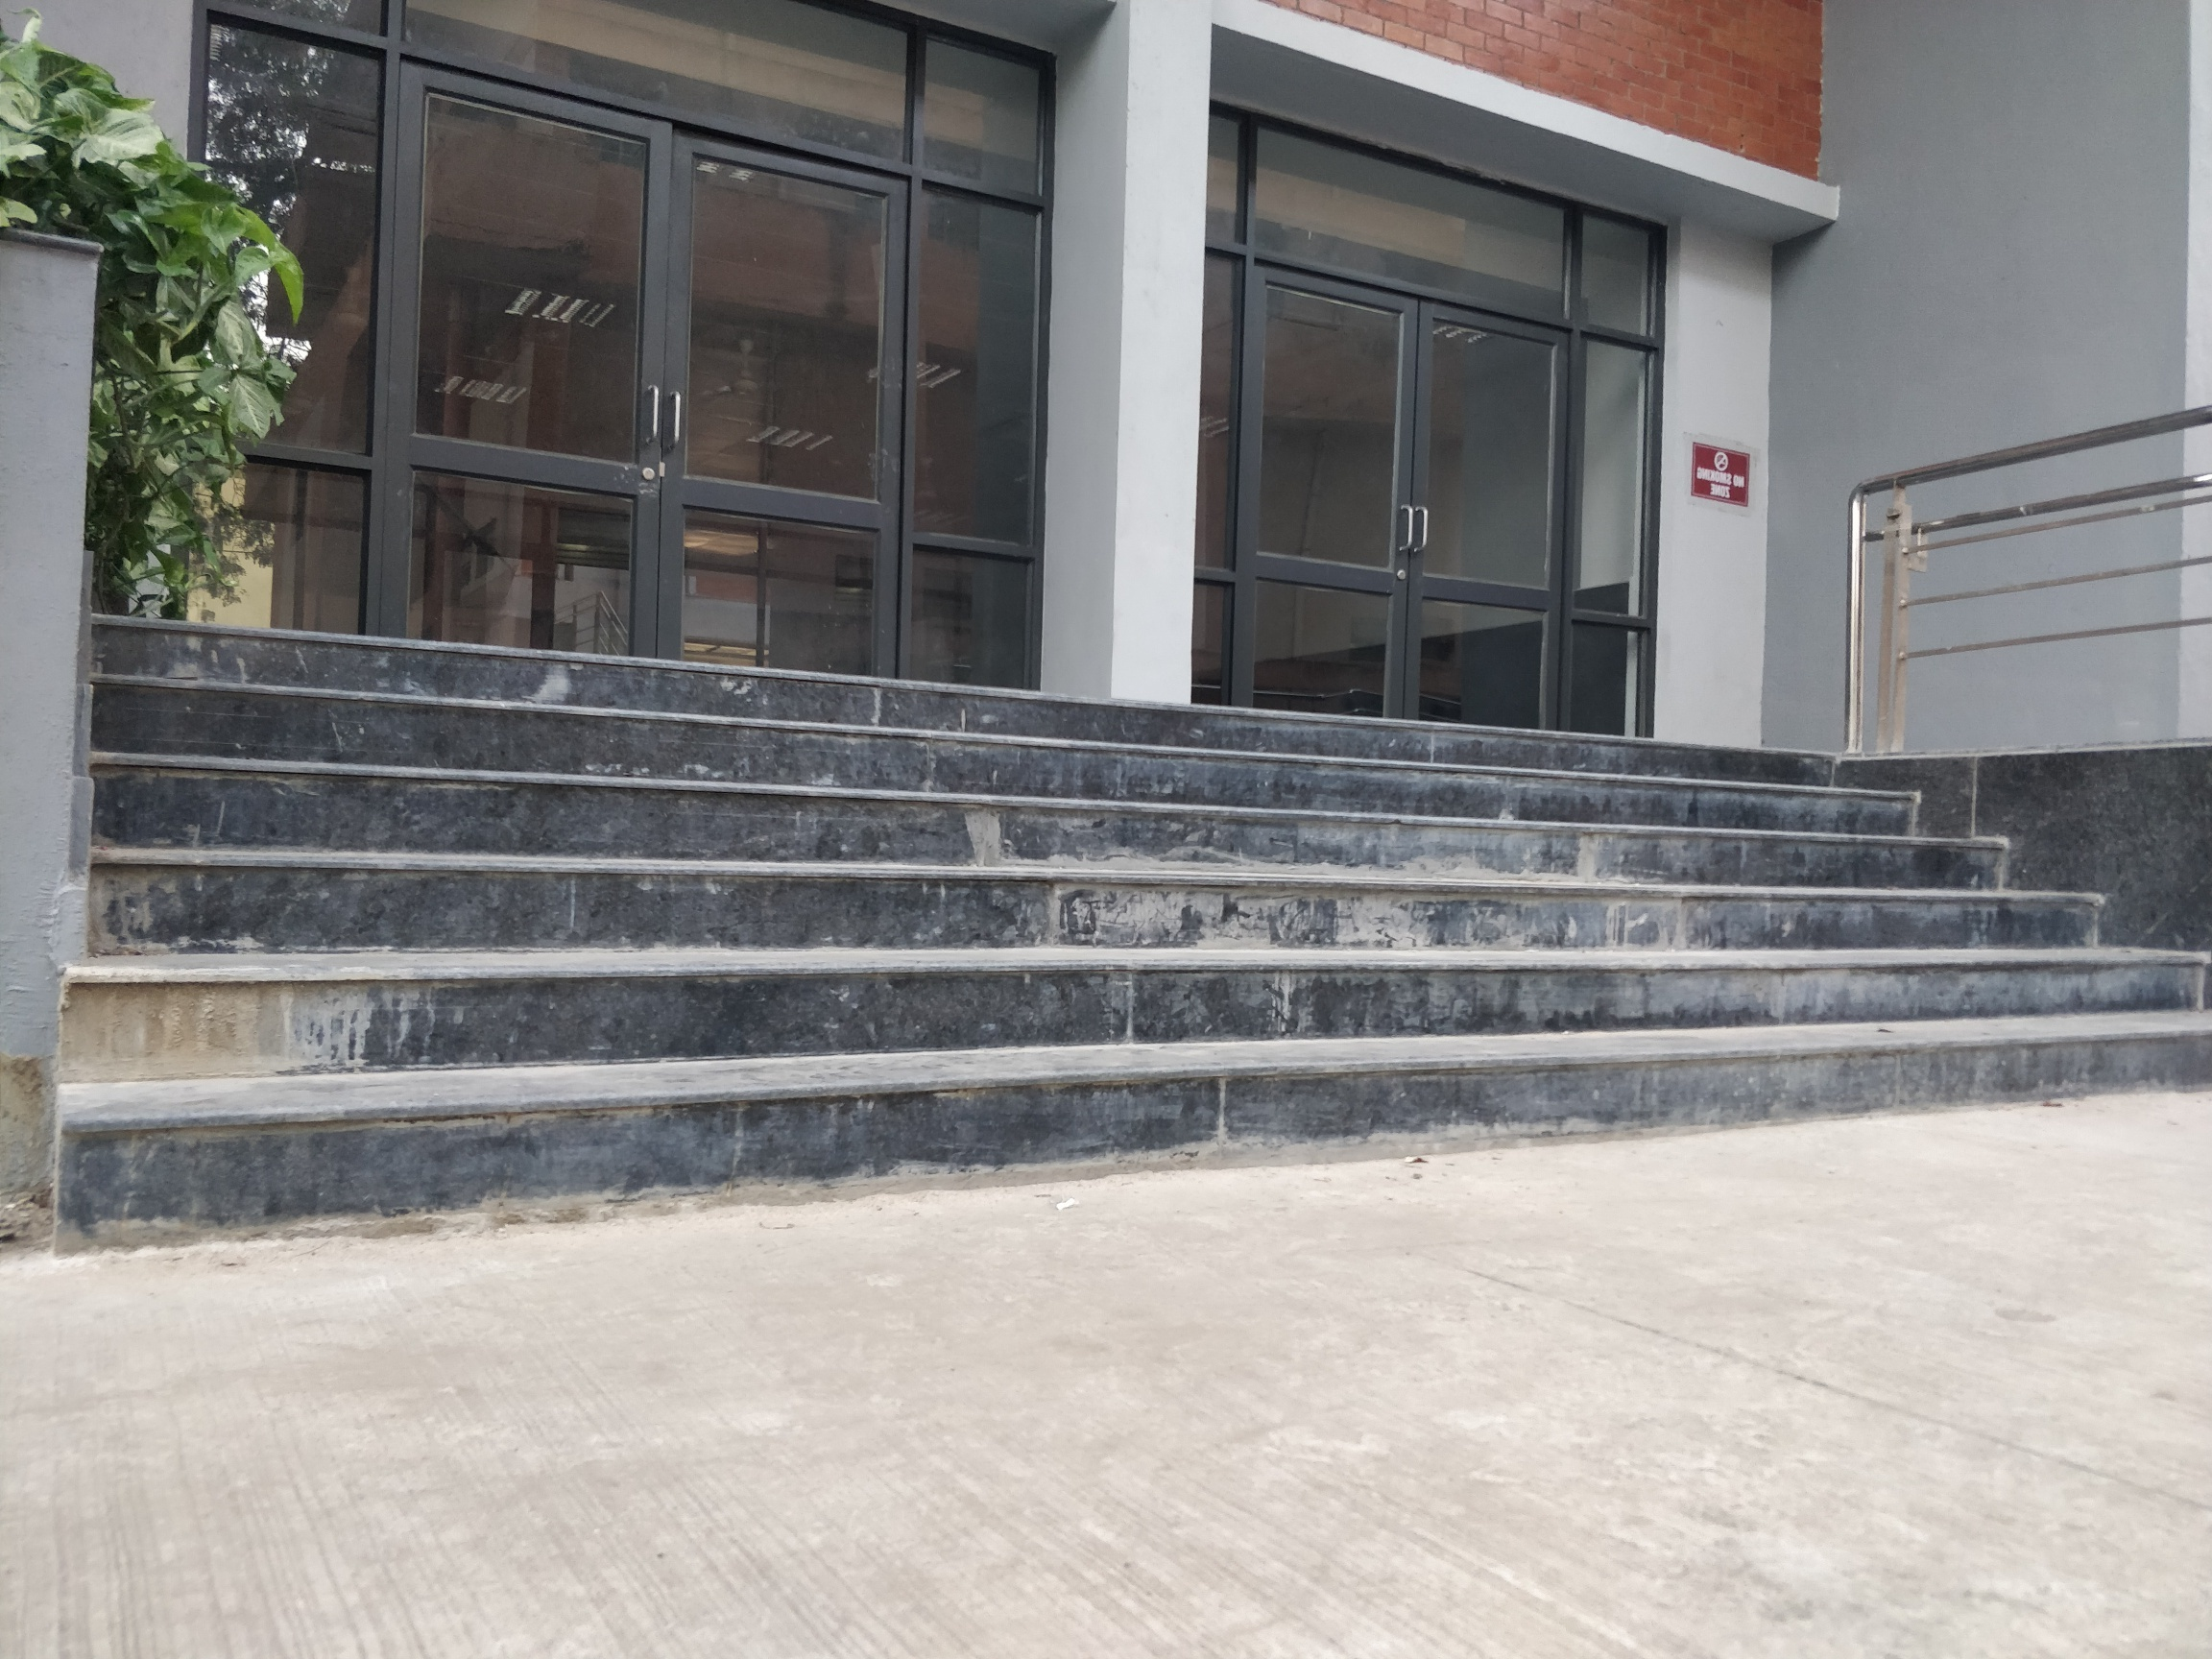stairs_up: (52, 572, 2207, 1241)
